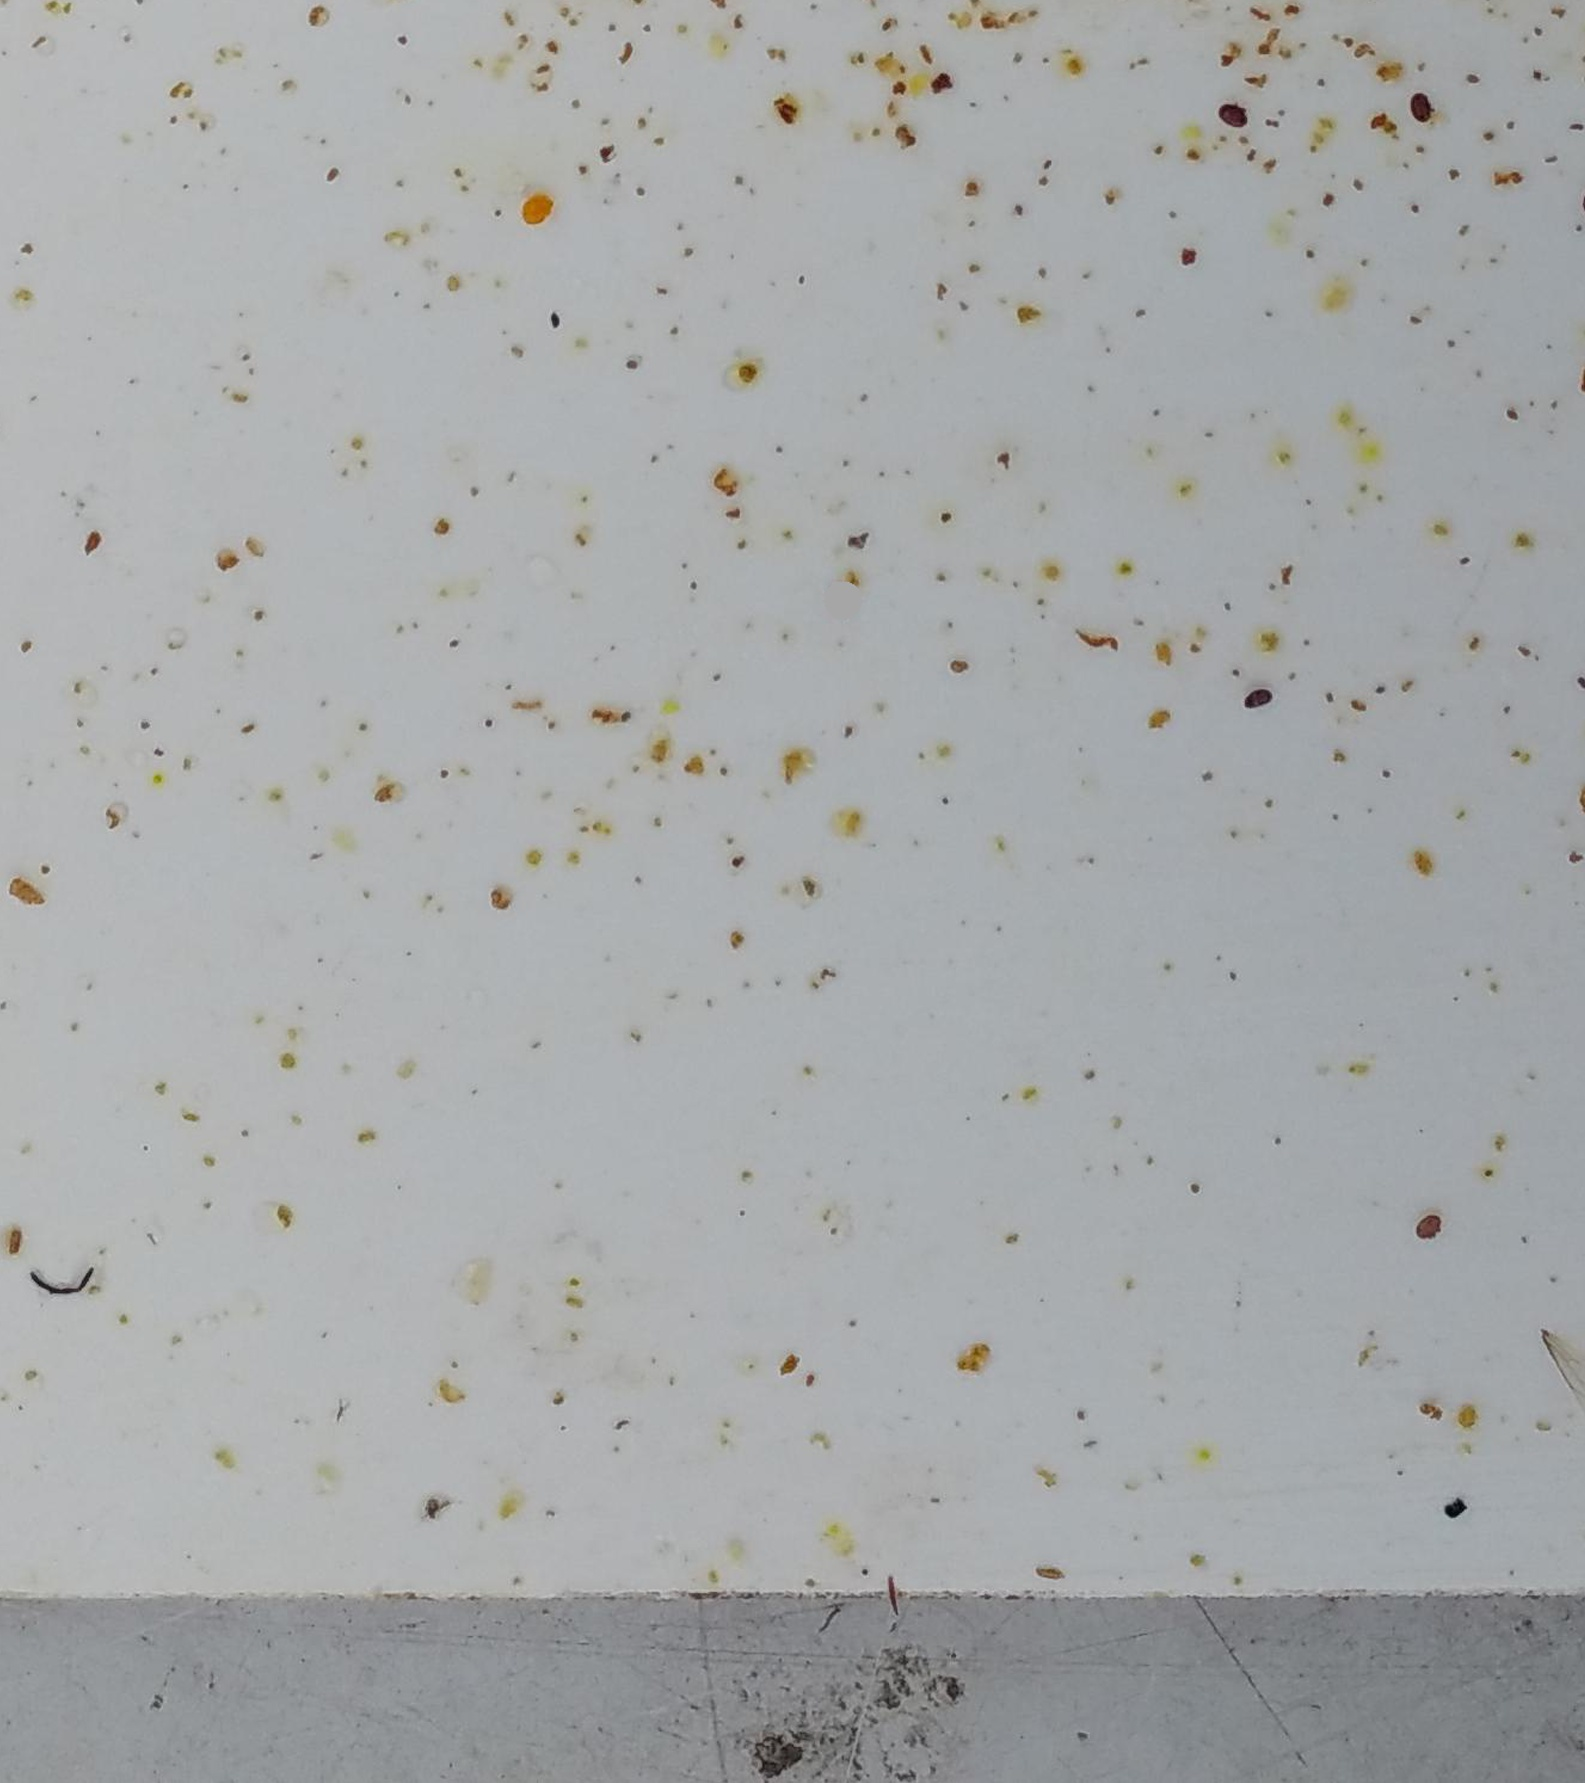Varroa: (1408, 1208, 1440, 1237), (1251, 683, 1274, 719), (1409, 90, 1435, 118), (1222, 104, 1244, 124)
